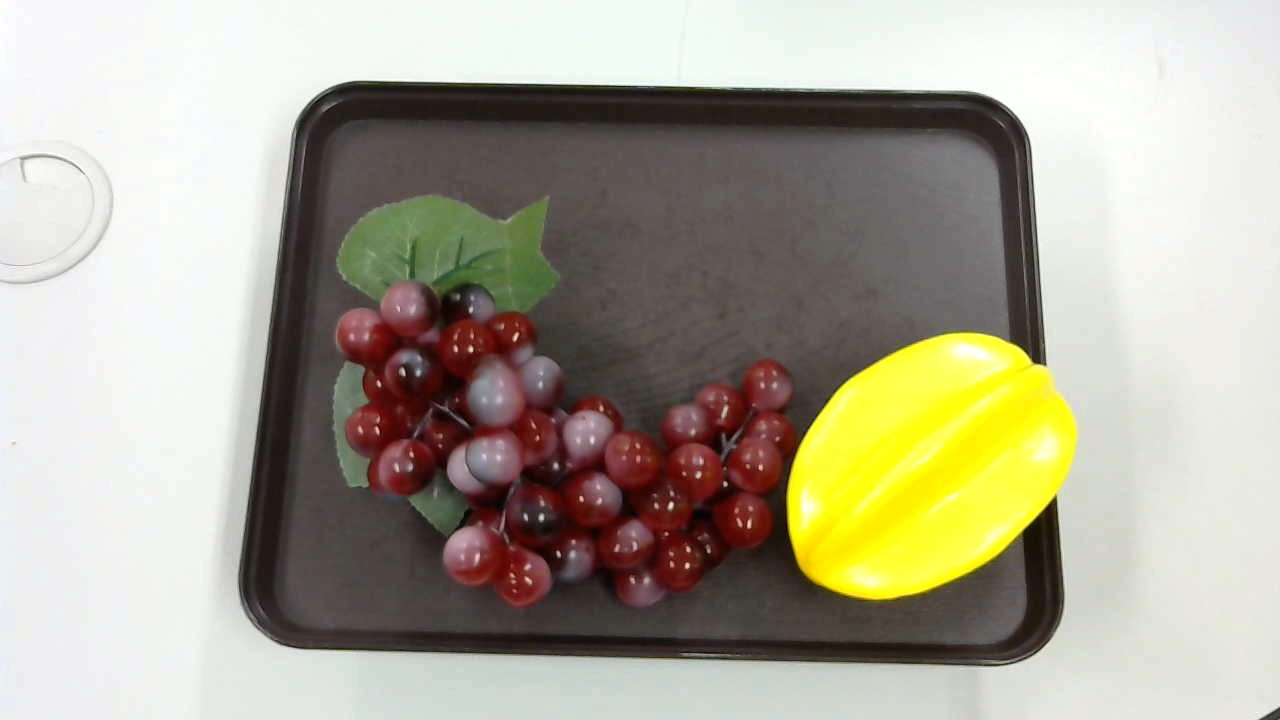grape: (327, 188, 791, 622)
star fruit: (788, 325, 1079, 605)
